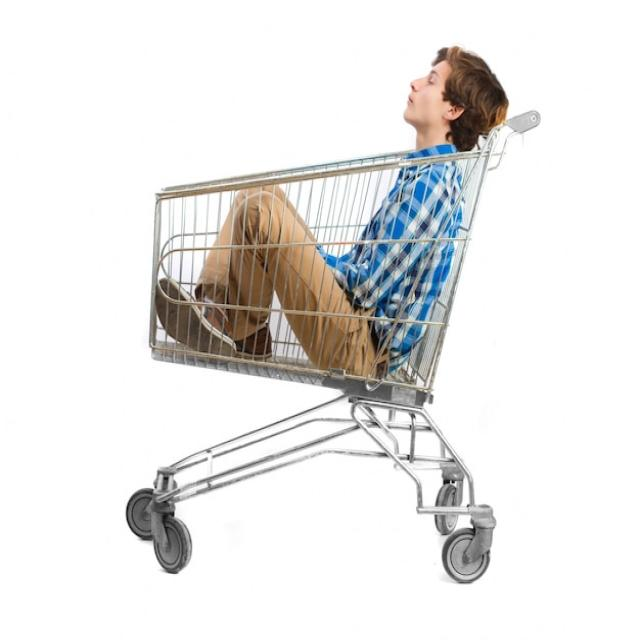Person: (154, 45, 508, 377)
